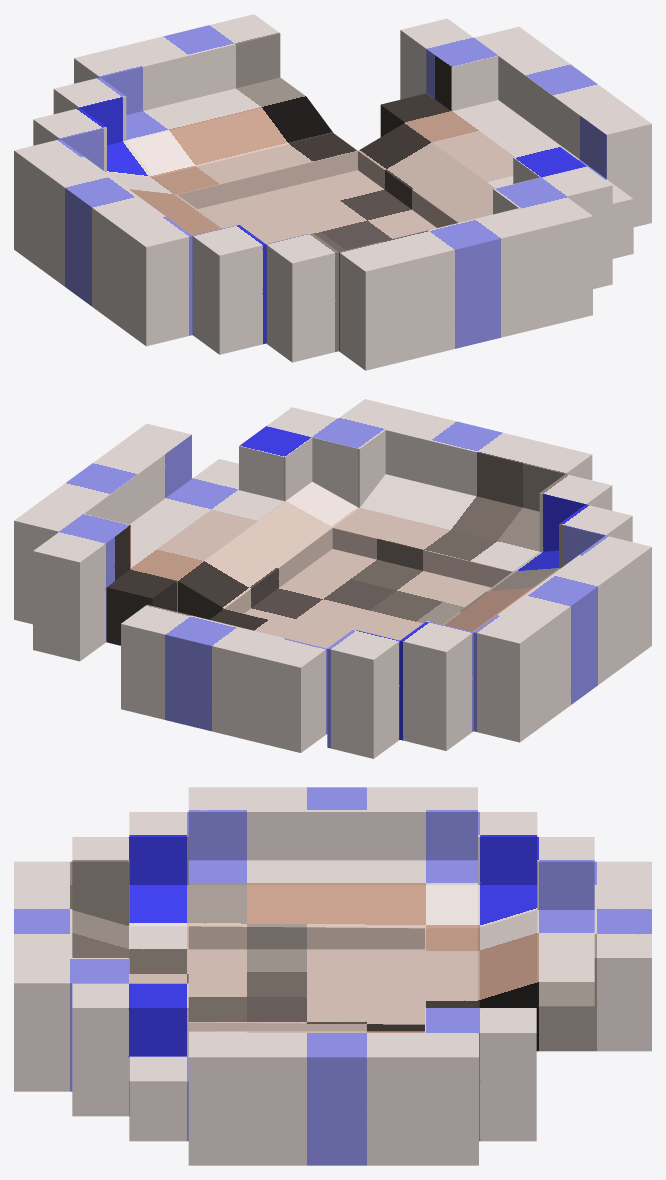
Rendered from broken_dish_546x00.gltf.
3 renders of one model, top to bottom at view 1: azimuth 30°, elevation 25°; view 2: azimuth 150°, elevation 25°; view 3: azimuth 270°, elevation 25°, orthographic. The views are drawn at different scales.
Parts seen in each view (by area): view 1: broken_dish_546x00; view 2: broken_dish_546x00; view 3: broken_dish_546x00.
Boxes of the visible parts, x1=… form: broken_dish_546x00: x1=14, y1=14, x2=651, y2=370; broken_dish_546x00: x1=14, y1=399, x2=651, y2=758; broken_dish_546x00: x1=14, y1=787, x2=651, y2=1165.
Bounding box in the file's own units: 0.5127 × 0.096 × 0.5122.
Materials: 1 (1 with a texture image).
